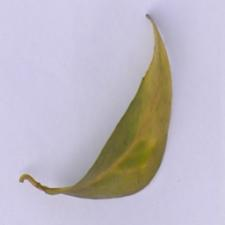Greening: (64, 24, 176, 204)
